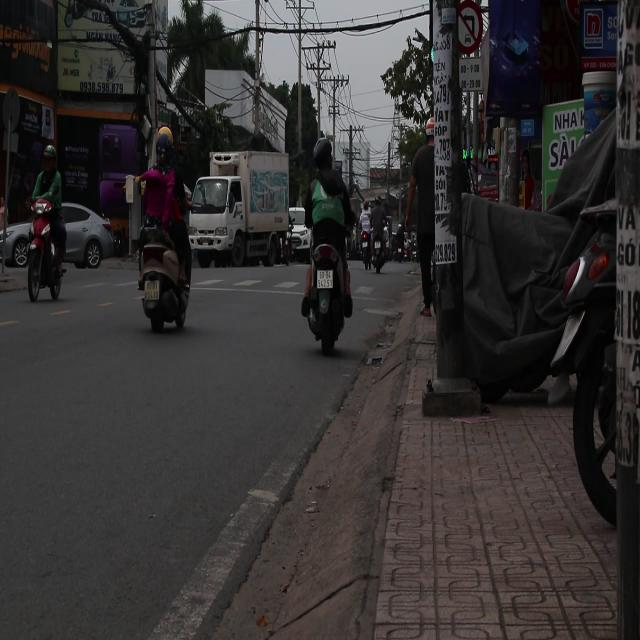car: (26, 200, 116, 272), (288, 208, 310, 262)
motorbike: (134, 198, 192, 334), (304, 220, 356, 360), (24, 204, 64, 306)
truck: (186, 152, 291, 272)
